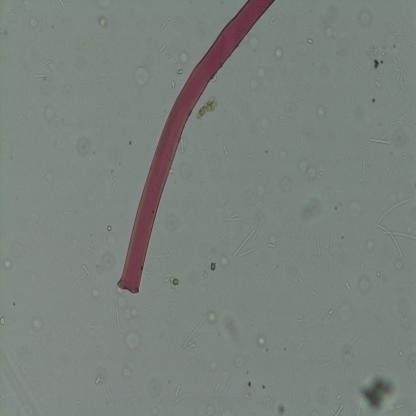Background material: (357, 369, 399, 416), (256, 110, 284, 136), (147, 377, 161, 416), (398, 144, 416, 174), (196, 96, 216, 122), (302, 196, 322, 221), (300, 160, 319, 185), (74, 138, 96, 158), (134, 65, 150, 89), (125, 332, 142, 354), (221, 316, 238, 338), (66, 350, 80, 373), (176, 50, 189, 74), (356, 275, 371, 295), (348, 200, 362, 219), (164, 275, 179, 292), (358, 11, 373, 26), (275, 400, 289, 416), (204, 402, 220, 416), (120, 364, 132, 382), (12, 244, 25, 260), (248, 37, 261, 51), (316, 103, 327, 119), (32, 317, 43, 333), (365, 238, 376, 254), (257, 333, 268, 348), (208, 310, 218, 326), (324, 28, 337, 40), (248, 77, 260, 90), (98, 14, 109, 28), (341, 350, 352, 364), (292, 398, 300, 416), (274, 45, 284, 59), (220, 254, 229, 269), (282, 177, 292, 190), (264, 396, 274, 409), (130, 306, 139, 320), (235, 355, 244, 369), (242, 390, 253, 400), (249, 348, 261, 357), (210, 261, 219, 272), (342, 148, 349, 162), (258, 65, 266, 77), (48, 172, 56, 183), (394, 260, 402, 271), (162, 314, 167, 330), (297, 314, 304, 325), (92, 289, 99, 300), (4, 258, 11, 269), (406, 409, 416, 416), (322, 243, 330, 251), (0, 316, 6, 326), (195, 358, 200, 370), (337, 391, 342, 401), (398, 350, 404, 358), (18, 359, 24, 367), (168, 305, 173, 314), (202, 271, 208, 278), (307, 36, 312, 44), (298, 275, 302, 284), (323, 362, 330, 367), (248, 381, 252, 388), (107, 225, 111, 232), (376, 271, 380, 278), (340, 235, 345, 240), (262, 385, 266, 390), (334, 206, 338, 210)
Glass filter fibre: (376, 72, 416, 128), (364, 120, 401, 150), (374, 198, 412, 227), (181, 314, 209, 348), (377, 224, 403, 258), (244, 217, 264, 261), (98, 333, 122, 366), (233, 230, 255, 256), (384, 158, 398, 186), (220, 376, 233, 402), (383, 229, 416, 239), (115, 297, 124, 333), (261, 264, 276, 285), (156, 242, 173, 260), (330, 228, 335, 288), (108, 171, 119, 196), (293, 252, 305, 271), (104, 376, 113, 400), (306, 294, 318, 310), (346, 335, 359, 349), (36, 60, 52, 70), (72, 275, 84, 287), (160, 16, 170, 30), (369, 138, 391, 144), (173, 394, 186, 404), (334, 404, 344, 416), (223, 216, 243, 222), (315, 234, 320, 257), (282, 254, 289, 270), (179, 137, 185, 155), (354, 59, 363, 71), (297, 342, 306, 353), (317, 311, 325, 323), (60, 38, 65, 57), (357, 397, 362, 416), (388, 193, 398, 202), (158, 44, 167, 53), (76, 42, 81, 57), (229, 257, 234, 272), (82, 266, 90, 275), (362, 158, 366, 176), (275, 62, 280, 76), (371, 62, 373, 97), (34, 73, 47, 78), (270, 17, 278, 25), (89, 248, 97, 256), (30, 21, 38, 29), (124, 53, 127, 74), (89, 324, 101, 329), (214, 382, 220, 392), (175, 384, 180, 396), (366, 156, 372, 166), (344, 282, 351, 290), (223, 145, 228, 156), (95, 376, 101, 385), (393, 31, 403, 36), (266, 243, 276, 248), (376, 80, 382, 88), (327, 310, 333, 318), (310, 290, 318, 296), (396, 403, 403, 409), (307, 197, 309, 216), (116, 347, 120, 356), (231, 214, 238, 219), (46, 13, 49, 24), (351, 94, 354, 105), (296, 140, 300, 148), (59, 0, 64, 6), (252, 193, 256, 200), (233, 115, 236, 124), (263, 193, 266, 202), (301, 220, 303, 233), (51, 0, 54, 8), (172, 361, 174, 370), (136, 68, 142, 71), (306, 232, 309, 238), (319, 172, 324, 175)
Microfibre: (115, 0, 277, 293)
